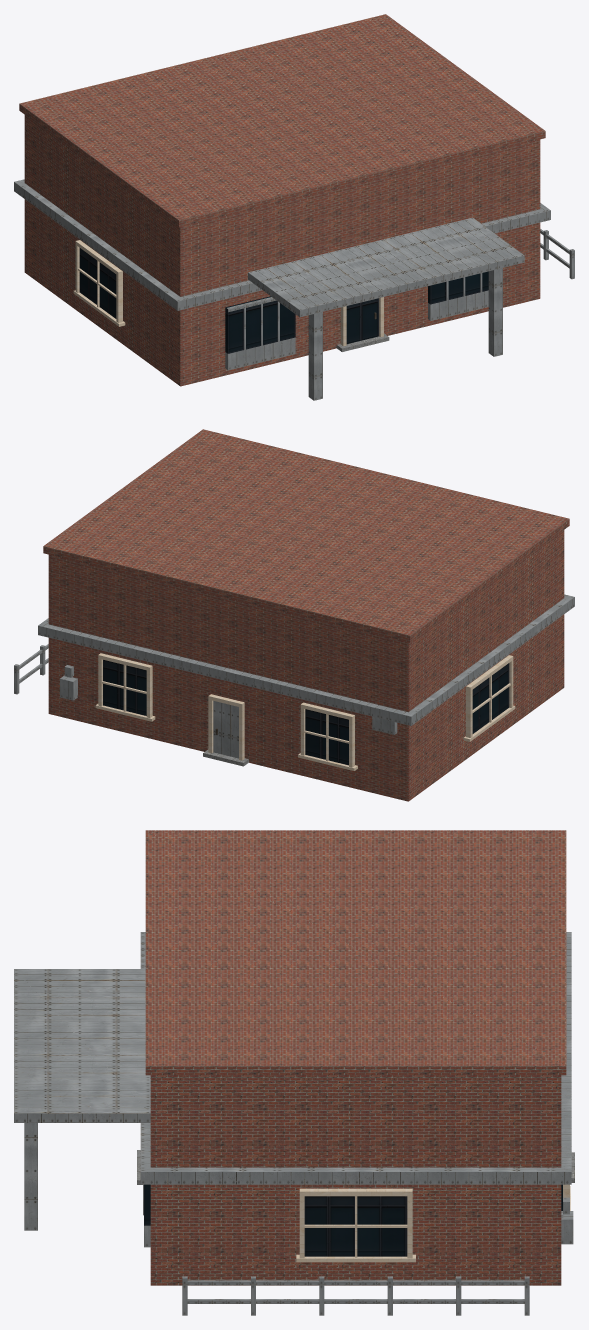
The model's file is harbor-paws-vet-clinic_lod0.gltf.
3 views of the same model, one above another, from view 1: azimuth 30°, elevation 25°; view 2: azimuth 150°, elevation 25°; view 3: azimuth 270°, elevation 25° (orthographic). The views are drawn at different scales.
Visible parts, largest first — view 1: harbor-paws-vet-clinic__parapet, harbor-paws-vet-clinic_main, harbor-paws-vet-clinic__dropoff_canopy, harbor-paws-vet-clinic_fen_07-glass-curtain-blue_1_t, harbor-paws-vet-clinic__trim_band, harbor-paws-vet-clinic_fen_14-steel-panel_4, harbor-paws-vet-clinic_fen_04-limestone_0, harbor-paws-vet-clinic__canopy_post_b, harbor-paws-vet-clinic__canopy_post_a, harbor-paws-vet-clinic__side_fence; view 2: harbor-paws-vet-clinic_main, harbor-paws-vet-clinic__parapet, harbor-paws-vet-clinic__trim_band, harbor-paws-vet-clinic_fen_04-limestone_0, harbor-paws-vet-clinic_fen_07-glass-curtain-blue_1_t, harbor-paws-vet-clinic_fen_14-steel-panel_4, harbor-paws-vet-clinic__side_fence; view 3: harbor-paws-vet-clinic__parapet, harbor-paws-vet-clinic_main, harbor-paws-vet-clinic__dropoff_canopy, harbor-paws-vet-clinic__trim_band, harbor-paws-vet-clinic_fen_07-glass-curtain-blue_1_t, harbor-paws-vet-clinic__side_fence, harbor-paws-vet-clinic_fen_04-limestone_0, harbor-paws-vet-clinic__canopy_post_b, harbor-paws-vet-clinic_fen_14-steel-panel_4.
Boxes of the visible parts, x1,y1,x2,y2 form: harbor-paws-vet-clinic__parapet: (19, 14, 545, 227); harbor-paws-vet-clinic_main: (24, 115, 540, 386); harbor-paws-vet-clinic__dropoff_canopy: (248, 217, 524, 317); harbor-paws-vet-clinic_fen_07-glass-curtain-blue_1_t: (79, 248, 488, 353); harbor-paws-vet-clinic__trim_band: (14, 179, 550, 310); harbor-paws-vet-clinic_fen_14-steel-panel_4: (225, 273, 488, 370); harbor-paws-vet-clinic_fen_04-limestone_0: (73, 240, 383, 346); harbor-paws-vet-clinic__canopy_post_b: (488, 268, 502, 356); harbor-paws-vet-clinic__canopy_post_a: (308, 312, 322, 400); harbor-paws-vet-clinic__side_fence: (540, 229, 574, 279); harbor-paws-vet-clinic_main: (48, 530, 564, 801); harbor-paws-vet-clinic__parapet: (43, 429, 569, 642); harbor-paws-vet-clinic__trim_band: (38, 594, 574, 725); harbor-paws-vet-clinic_fen_04-limestone_0: (95, 653, 515, 770); harbor-paws-vet-clinic_fen_07-glass-curtain-blue_1_t: (103, 660, 509, 765); harbor-paws-vet-clinic_fen_14-steel-panel_4: (60, 665, 397, 758); harbor-paws-vet-clinic__side_fence: (14, 644, 48, 694); harbor-paws-vet-clinic__parapet: (145, 830, 566, 1075); harbor-paws-vet-clinic_main: (150, 1075, 561, 1285); harbor-paws-vet-clinic__dropoff_canopy: (14, 969, 150, 1122); harbor-paws-vet-clinic__trim_band: (140, 932, 571, 1184); harbor-paws-vet-clinic_fen_07-glass-curtain-blue_1_t: (144, 1184, 562, 1256); harbor-paws-vet-clinic__side_fence: (182, 1276, 529, 1315); harbor-paws-vet-clinic_fen_04-limestone_0: (296, 1184, 570, 1262); harbor-paws-vet-clinic__canopy_post_b: (24, 1123, 37, 1230); harbor-paws-vet-clinic_fen_14-steel-panel_4: (143, 1184, 573, 1247).
Size of the model in its own units: 18.38 by 7.15 by 16.4.
